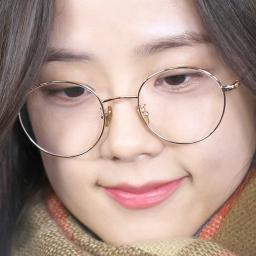face: (36, 0, 248, 236)
